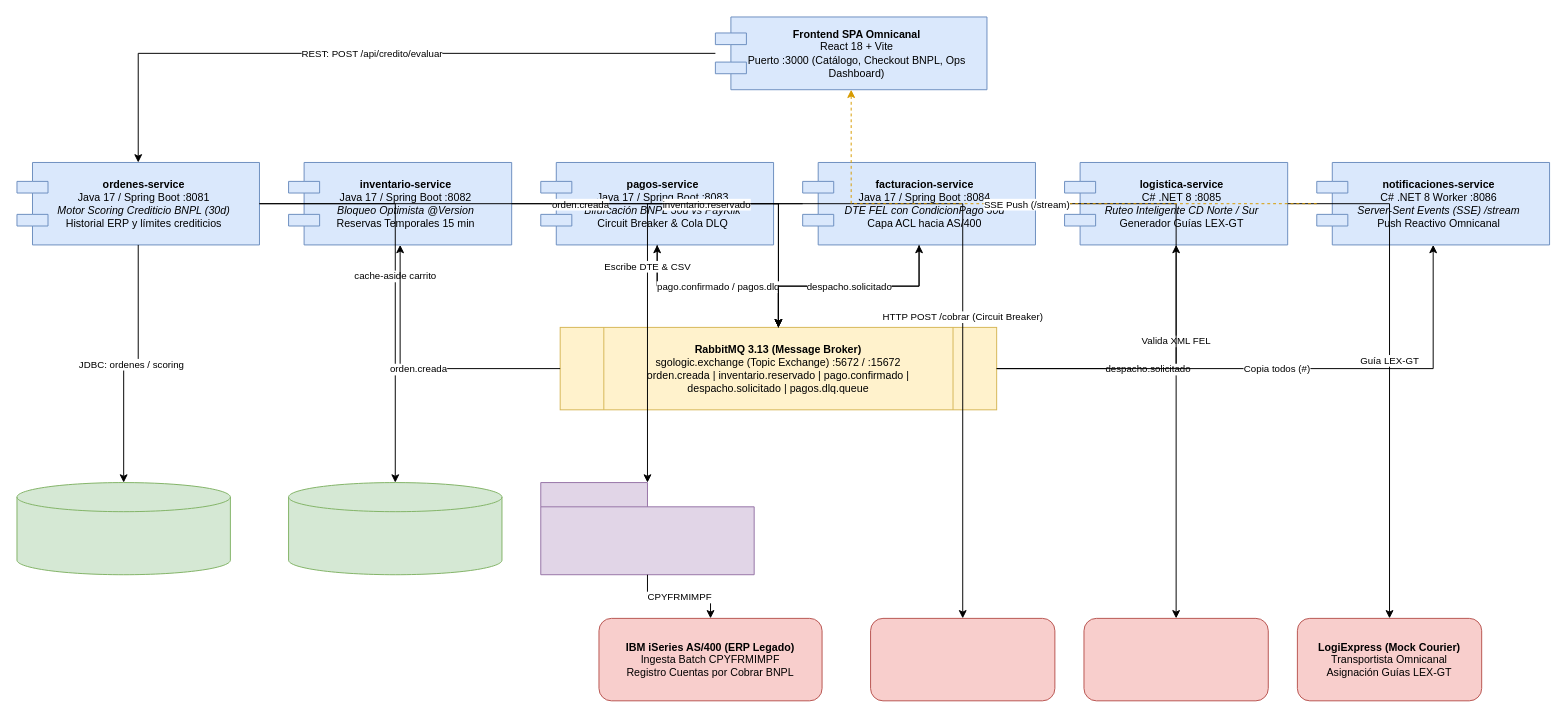
This 1567x718 diagram has some shape labels left out. Each missing label, with the centre of its shape:
PayKlik (Mock Gateway) Pasarela Tarjetas de Crédito HTTP 200 / Simulación 503: point (962, 659)
PostgreSQL 15 sgologic :5432 ordenes, clientes, stock, pagos, eventos_auditoria: point (123, 528)
Redis 7 Alpine Cache & Carrito Temporal :6379 carrito:{clienteId} (TTL sesiones): point (395, 528)
SAT FEL (Certificador) Validador DTE XML FEL Autorizaciones Tributarias: point (1175, 659)
Volumen POSIX facturas_data /app/uploads Lotes CSV resumen_erp_* y DTE XML: point (647, 528)
